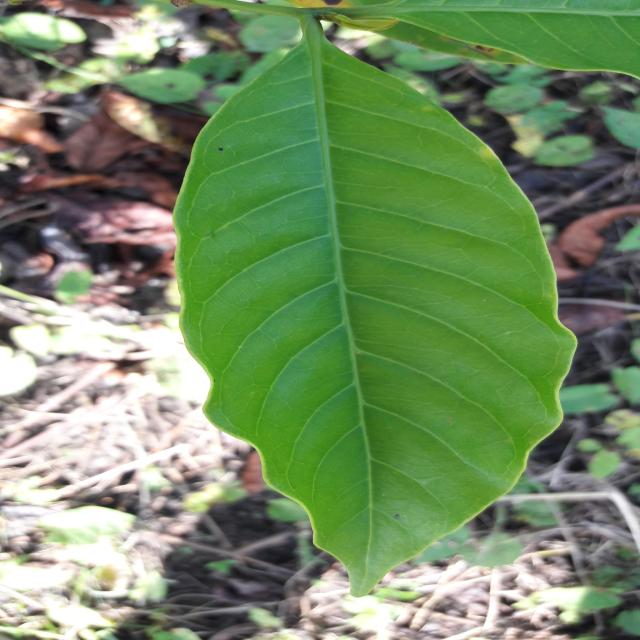Sanas: (172, 13, 578, 599)
